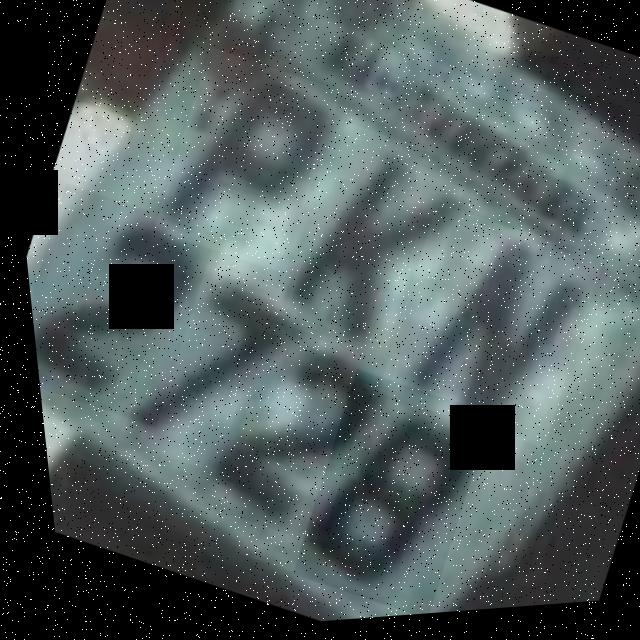2: (164, 304, 405, 563), (15, 175, 226, 435)
7: (93, 249, 310, 492)
8: (263, 366, 496, 627)
K: (246, 115, 483, 379)
N: (354, 200, 611, 466)
P: (134, 43, 352, 285)
